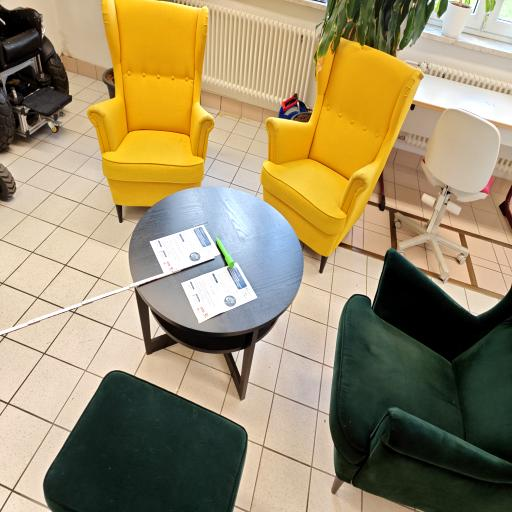Probe-Detection: (216, 238, 234, 268)
